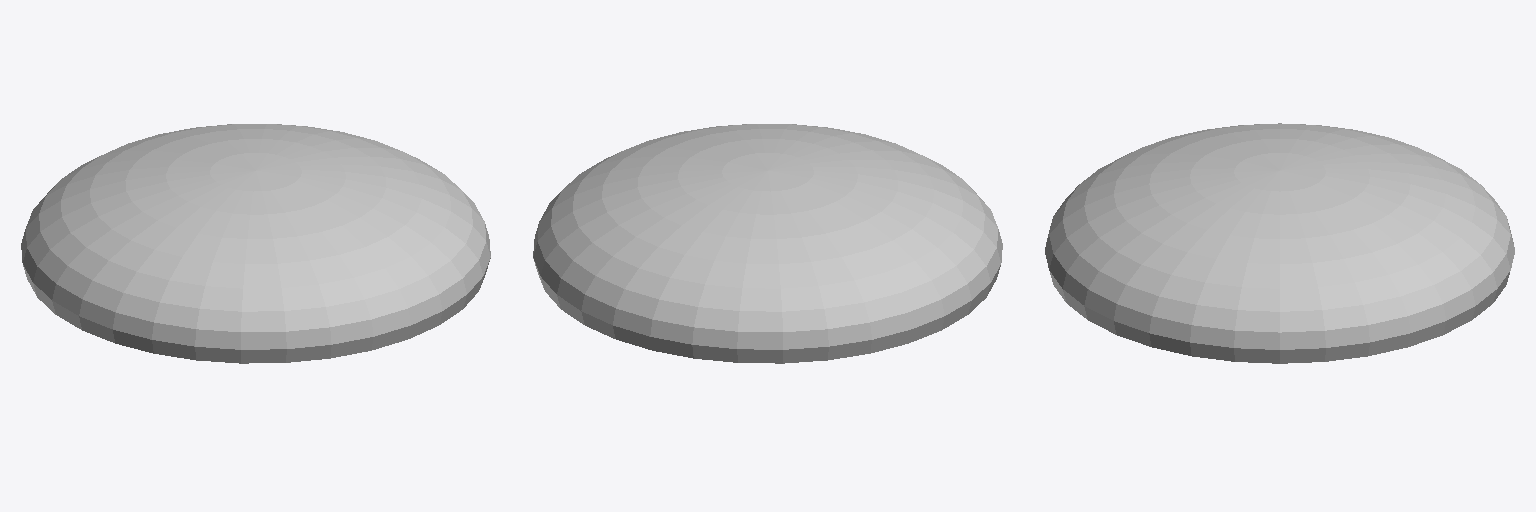
The model's file is map.obj.
3 renders of one model, left to right at view 1: azimuth 30°, elevation 25°; view 2: azimuth 150°, elevation 25°; view 3: azimuth 270°, elevation 25°, orthographic.
Visible parts, largest first — view 1: Sphere; view 2: Sphere; view 3: Sphere.
Boxes of the visible parts, x1=… form: Sphere: x1=21, y1=124, x2=490, y2=363; Sphere: x1=533, y1=124, x2=1002, y2=363; Sphere: x1=1045, y1=123, x2=1514, y2=363.
Size of the model in its own units: 800 by 320 by 800.